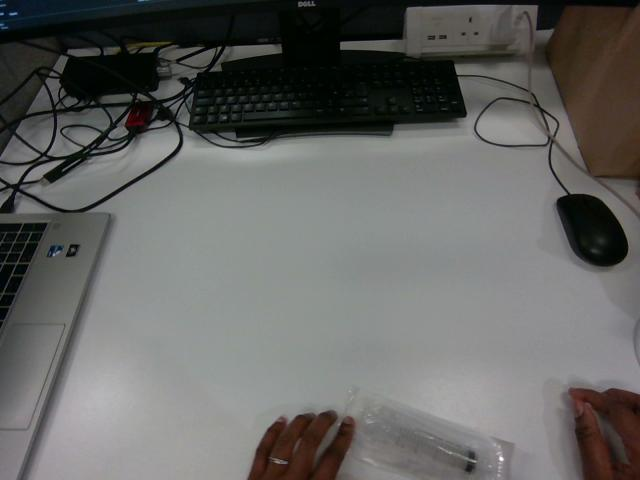syringe: (346, 387, 510, 479)
